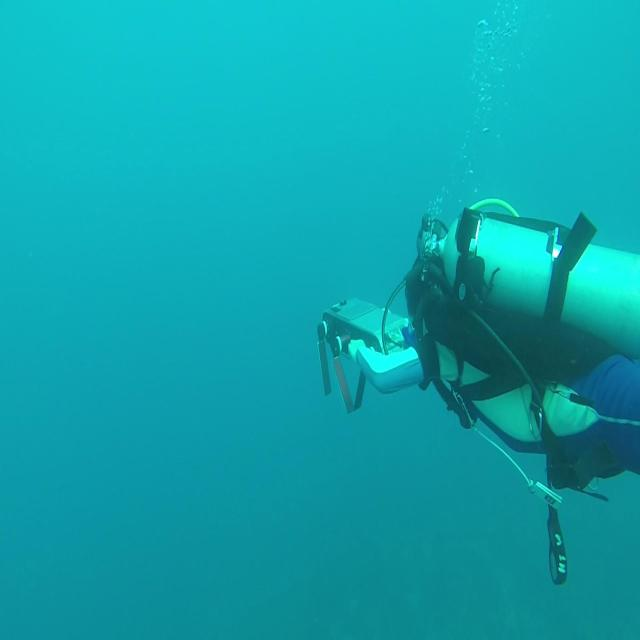human: (318, 198, 639, 584)
